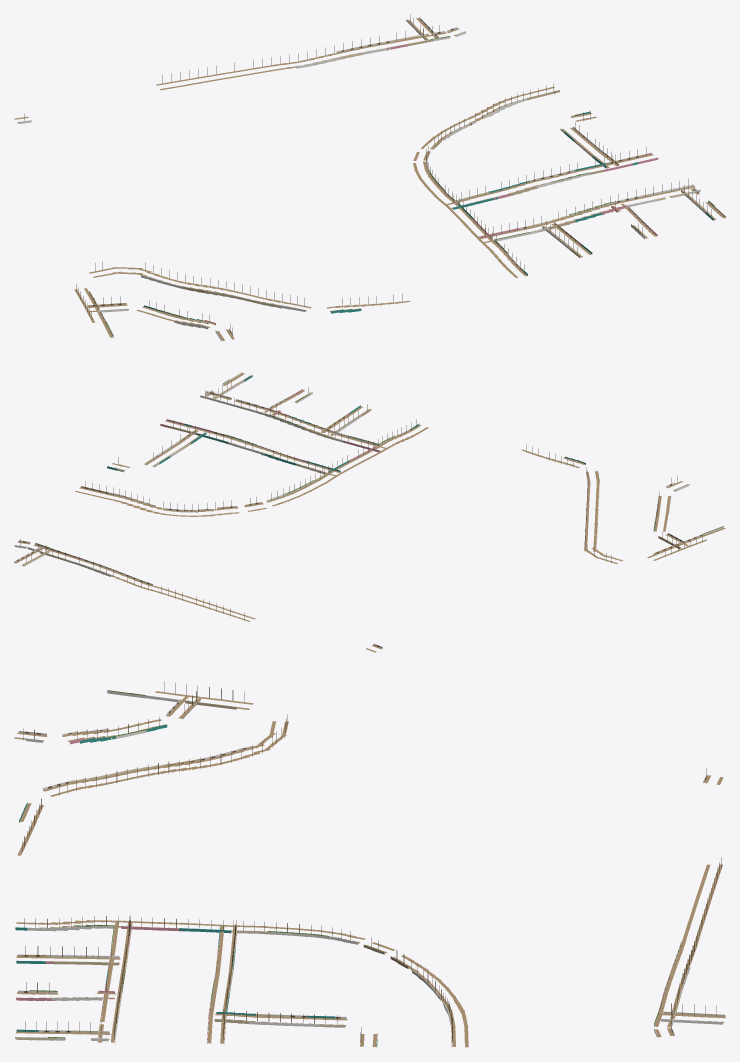
Rendered from noord_res_-14_-12.glb.
The picture shows the model from 3 angles, top to bottom: view 1: azimuth 30°, elevation 25°; view 2: azimuth 150°, elevation 25°; view 3: azimuth 270°, elevation 25°; orthographic projection. The views are drawn at different scales.
Visible parts, largest first — view 1: noord_res_-14_-12_lod0; view 2: noord_res_-14_-12_lod0; view 3: noord_res_-14_-12_lod0.
Part boxes in pixels (box(x1,y1,x2,y2)): noord_res_-14_-12_lod0: box(14, 14, 725, 341); noord_res_-14_-12_lod0: box(14, 372, 725, 652); noord_res_-14_-12_lod0: box(14, 681, 725, 1047).
Size of what is drawn, in the model's own units: 553 by 17.9 by 461.
